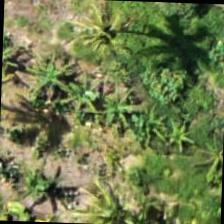Kelapa_Sawit: (57, 0, 151, 79), (73, 172, 166, 223)
